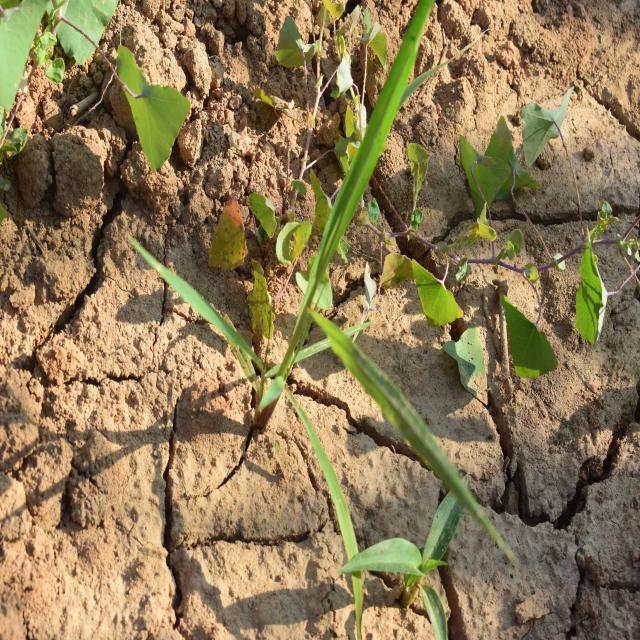green_foxtail: (227, 44, 486, 524)
